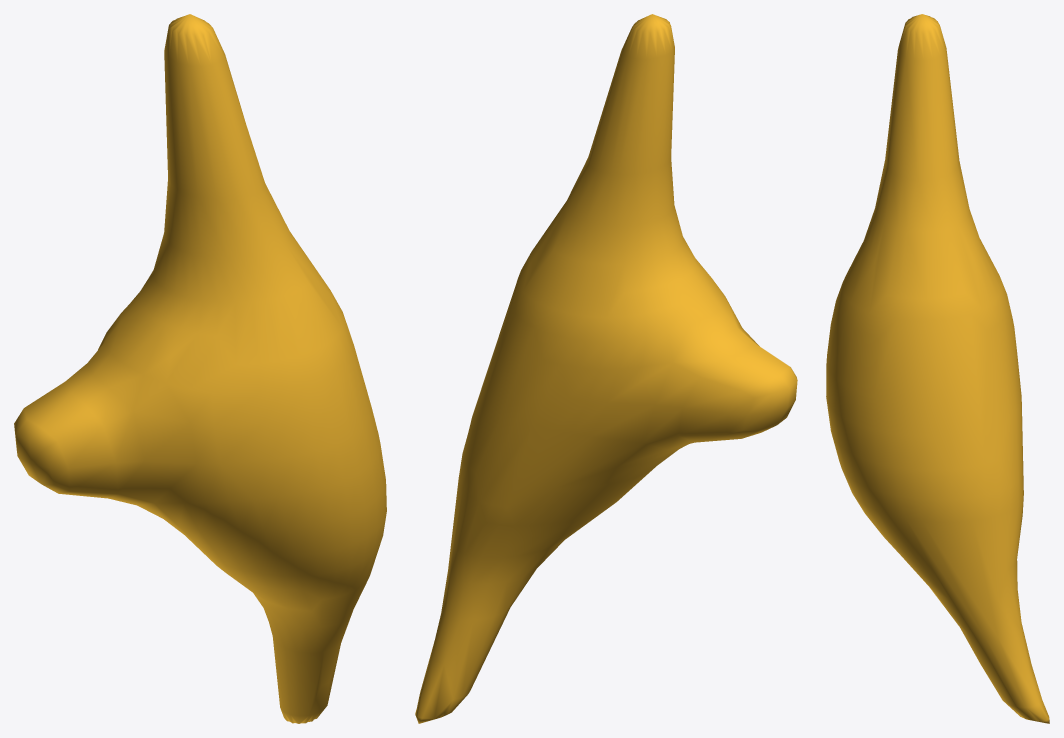
The model's file is nervoso-vestibular-nuclei-r.glb.
3 renders of one model, left to right at view 1: azimuth 30°, elevation 25°; view 2: azimuth 150°, elevation 25°; view 3: azimuth 270°, elevation 25°, orthographic. The views are drawn at different scales.
Visible parts, largest first — view 1: Vestibular nuclei.r; view 2: Vestibular nuclei.r; view 3: Vestibular nuclei.r.
Part boxes in pixels (x1,y1,x2,y2): Vestibular nuclei.r: [14, 14, 386, 723]; Vestibular nuclei.r: [415, 14, 797, 723]; Vestibular nuclei.r: [826, 14, 1049, 723].
Size of the model in its own units: 0.0065 by 0.0137 by 0.00435.
